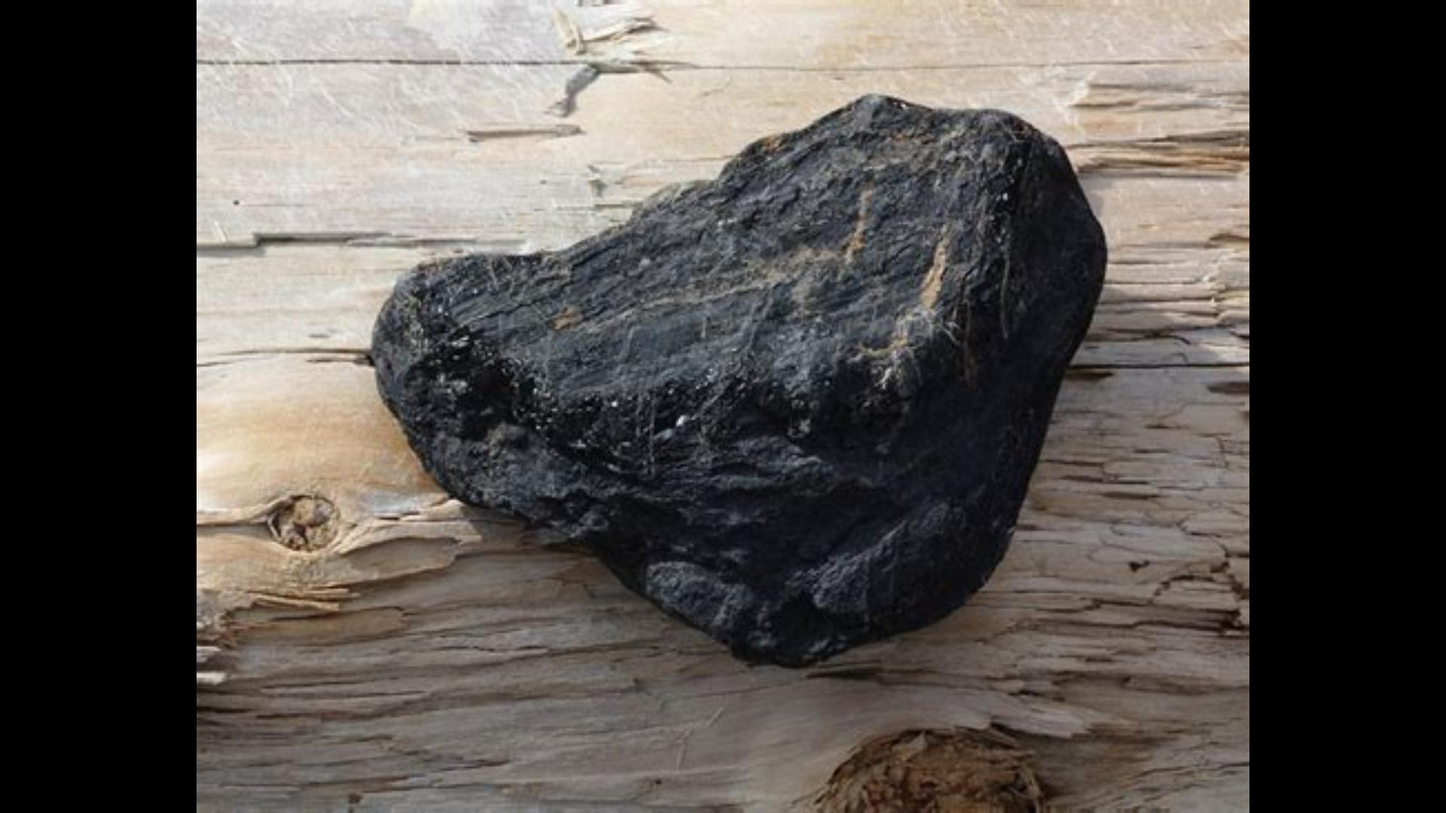rock: (374, 96, 1099, 662)
